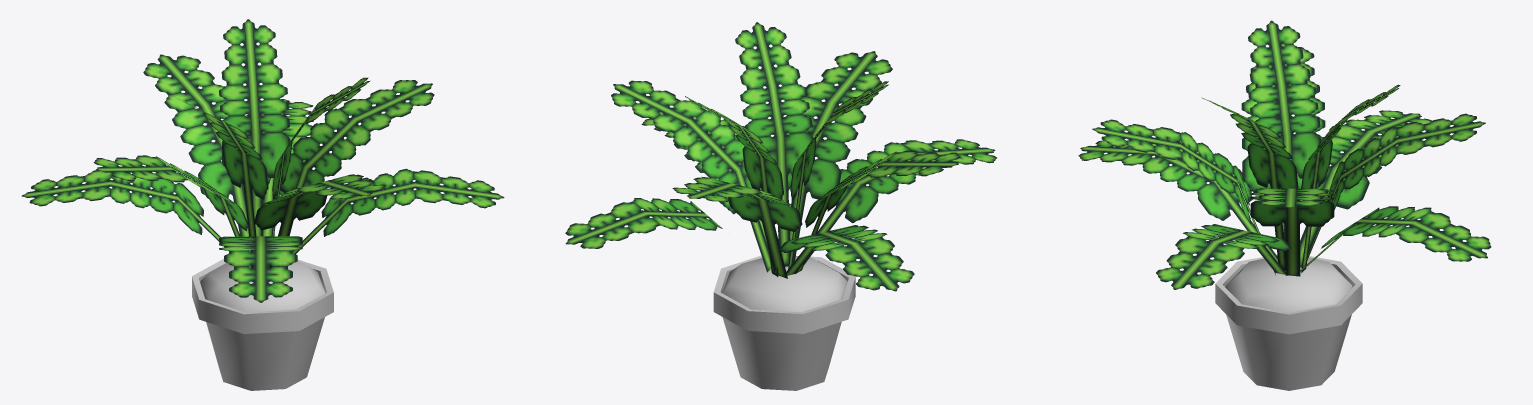
File: Prop_Planta_Maceta3.fbx
3 renders of one model, left to right at view 1: azimuth 30°, elevation 25°; view 2: azimuth 150°, elevation 25°; view 3: azimuth 270°, elevation 25°, orthographic.
Visible parts, largest first — view 1: Hoja_RamaRedondas.006; view 2: Hoja_RamaRedondas.006; view 3: Hoja_RamaRedondas.006.
Boxes of the visible parts, <box> form: Hoja_RamaRedondas.006: <box>21,19,504,390</box>; Hoja_RamaRedondas.006: <box>565,22,996,390</box>; Hoja_RamaRedondas.006: <box>1078,20,1491,390</box>.
Size of the model in its own units: 2.75 by 1.97 by 2.71.
